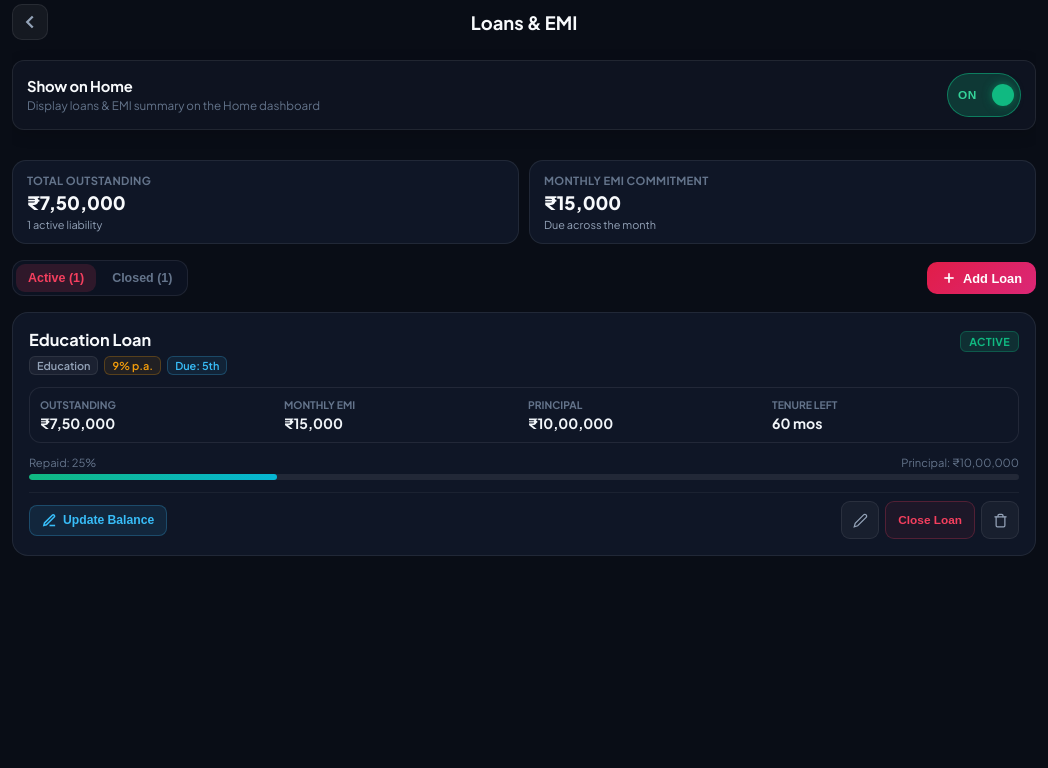
Test: LoansView - MAS-08 deletion and MAS-09 error feedback › MAS-09: displays visible error toast when reopening loan (reactivation) fails
The image size is (1048, 768).
Click the button with class "loans-subtab-btn" showing "Closed (1)": click(142, 278) [100, 264, 184, 292]
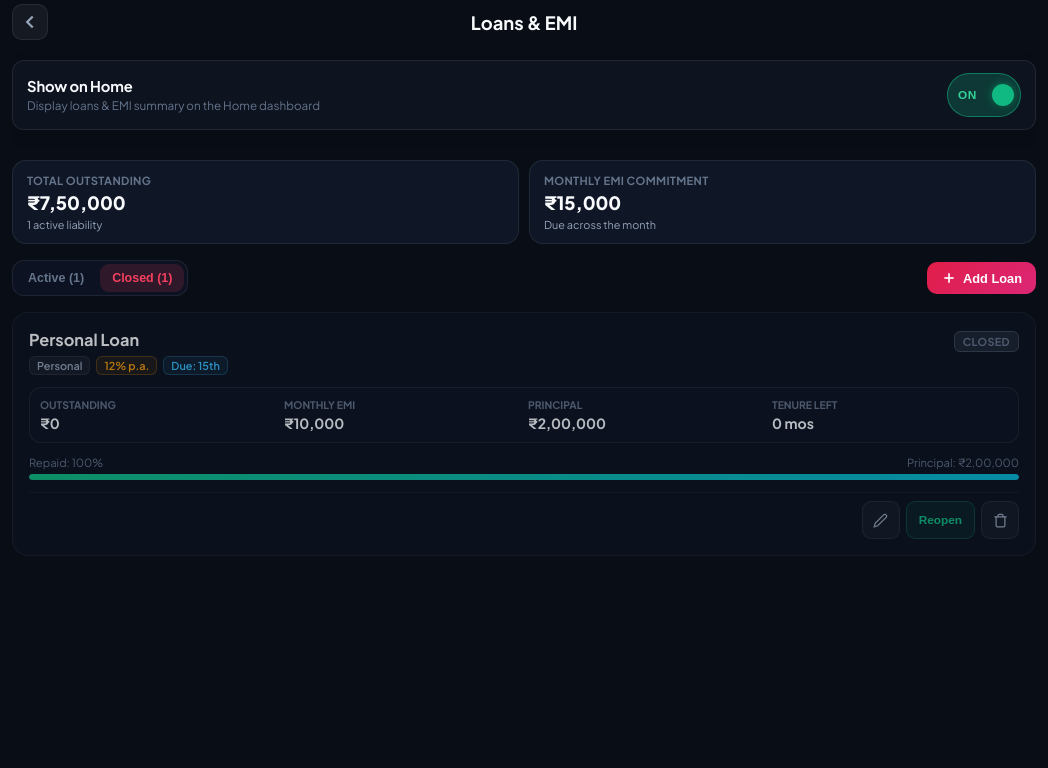
Check: the button with class "reactivate" is shown
Click the button with class "reactivate": click(940, 520) [906, 501, 975, 539]
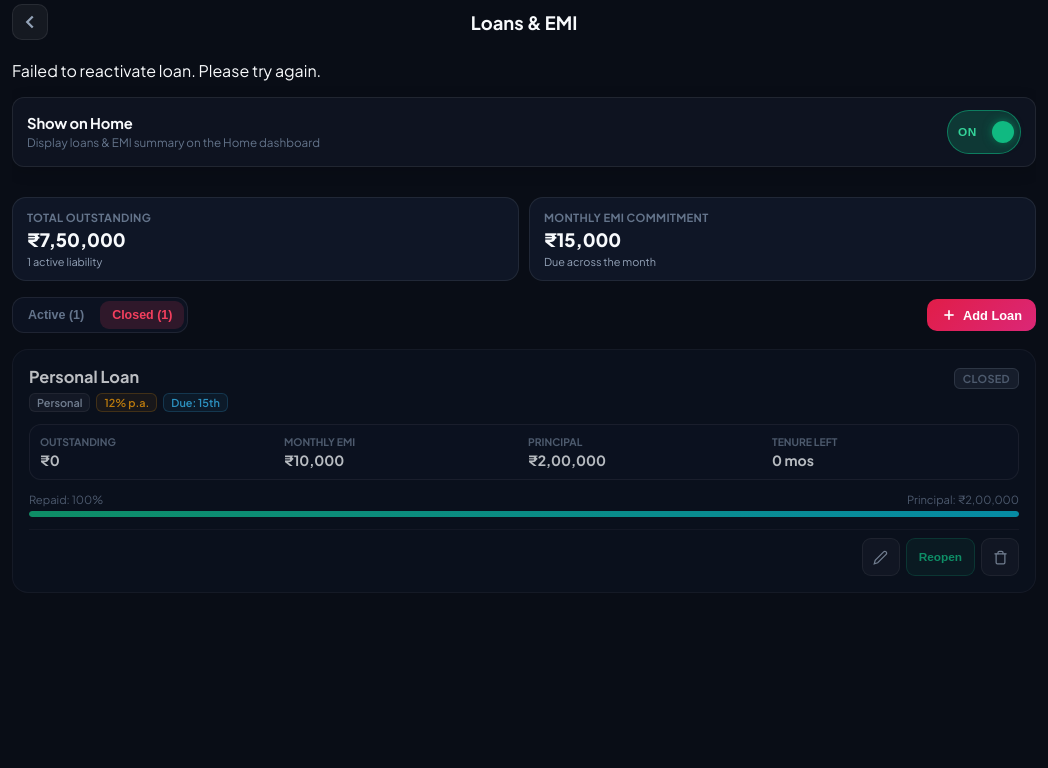
Check: the message with class "toast-notification" reads "Failed to reactivate loan. Please try again.", box [12, 60, 321, 81]
